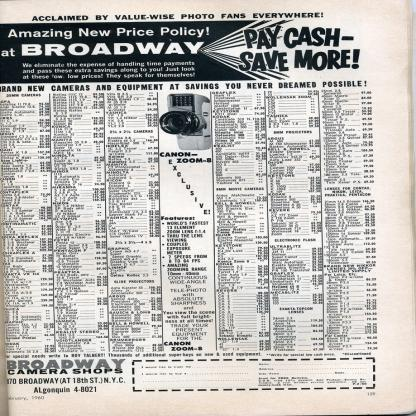Camera: (161, 95, 210, 152)
